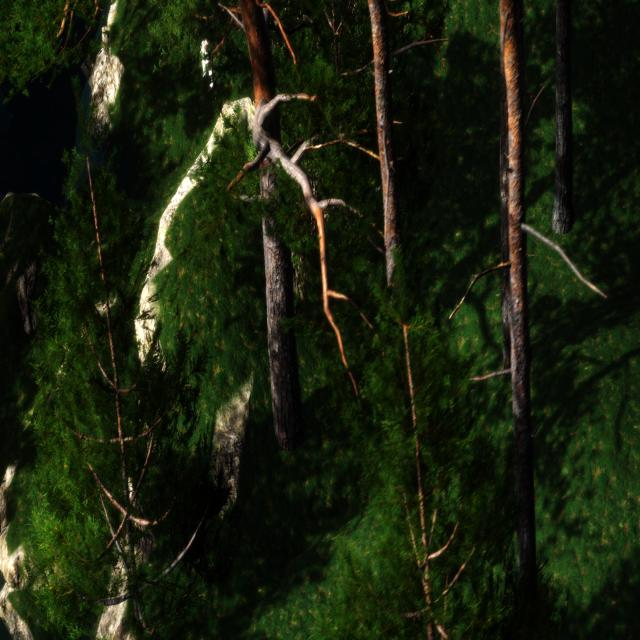Human: (196, 0, 216, 95)
